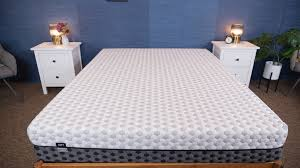bed-matress: (28, 46, 288, 151)
